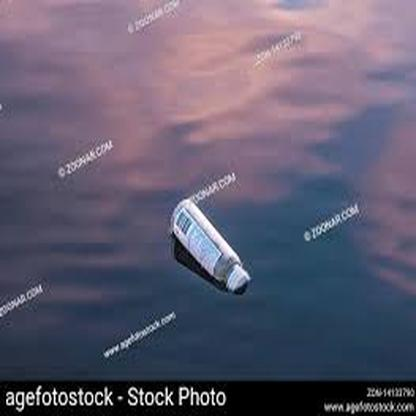plastic bottle: (168, 199, 250, 291)
